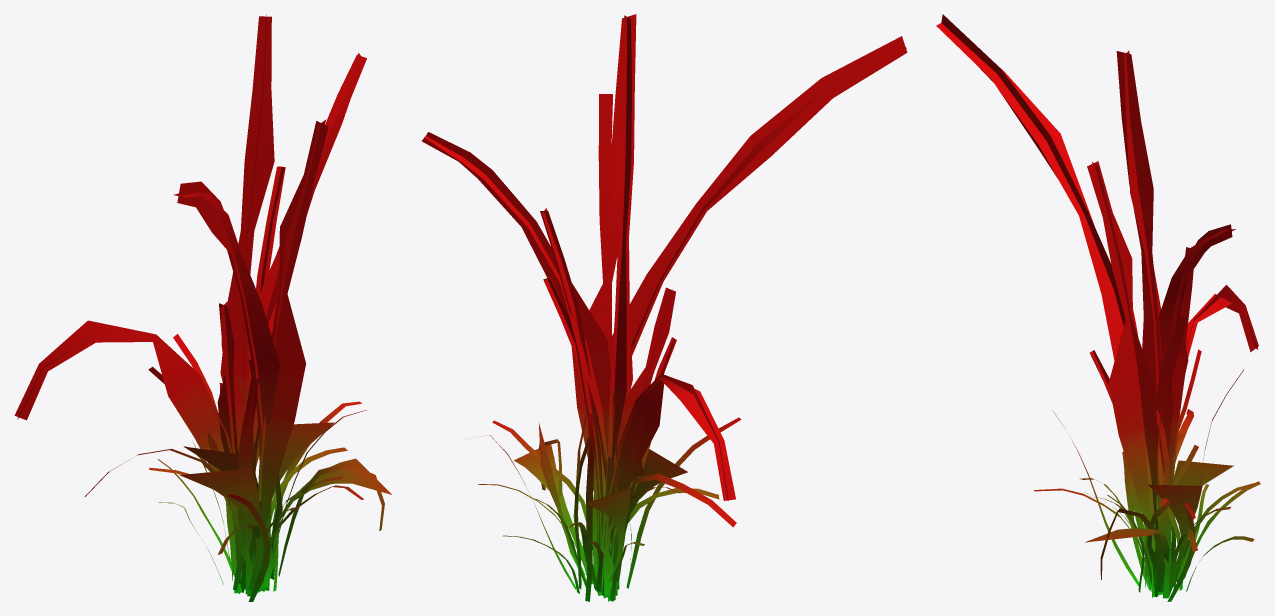
Rendered from Var1_LOD1.fbx.
3 views of the same model, side by side, from view 1: azimuth 30°, elevation 25°; view 2: azimuth 150°, elevation 25°; view 3: azimuth 270°, elevation 25° (orthographic). The views are drawn at different scales.
Visible parts, largest first — view 1: _80d7_Var1_LOD1; view 2: _80d7_Var1_LOD1; view 3: _80d7_Var1_LOD1.
Boxes of the visible parts, box(x1,y1,x2,y2) form: _80d7_Var1_LOD1: box(14, 14, 391, 601); _80d7_Var1_LOD1: box(422, 14, 907, 601); _80d7_Var1_LOD1: box(936, 14, 1260, 601).
Bounding box in the file's own units: 42.84 × 69.38 × 37.83.
